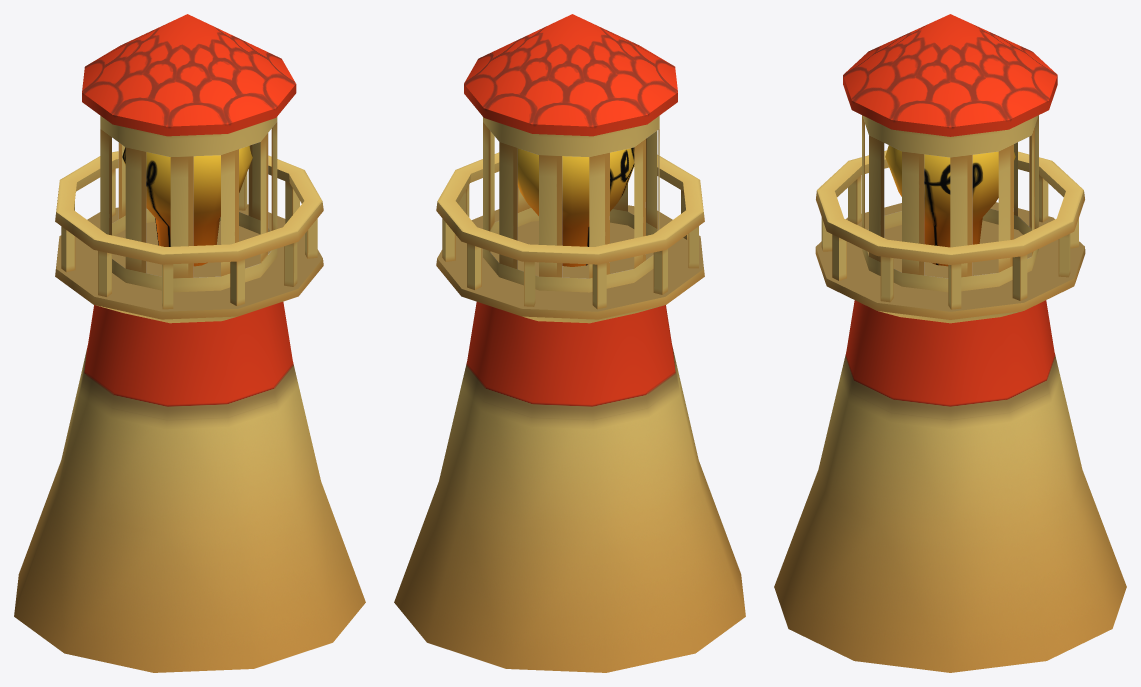
Rendered from lighthouse.FBX.
3 renders of one model, left to right at view 1: azimuth 30°, elevation 25°; view 2: azimuth 150°, elevation 25°; view 3: azimuth 270°, elevation 25°, orthographic.
Parts seen in each view (by area): view 1: Phare; view 2: Phare; view 3: Phare.
Boxes of the visible parts, box(x1,y1,x2,y2) form: Phare: box(14, 14, 365, 672); Phare: box(394, 14, 745, 672); Phare: box(774, 14, 1126, 672).
Size of the model in its own units: 33.54 by 61.85 by 33.88.
